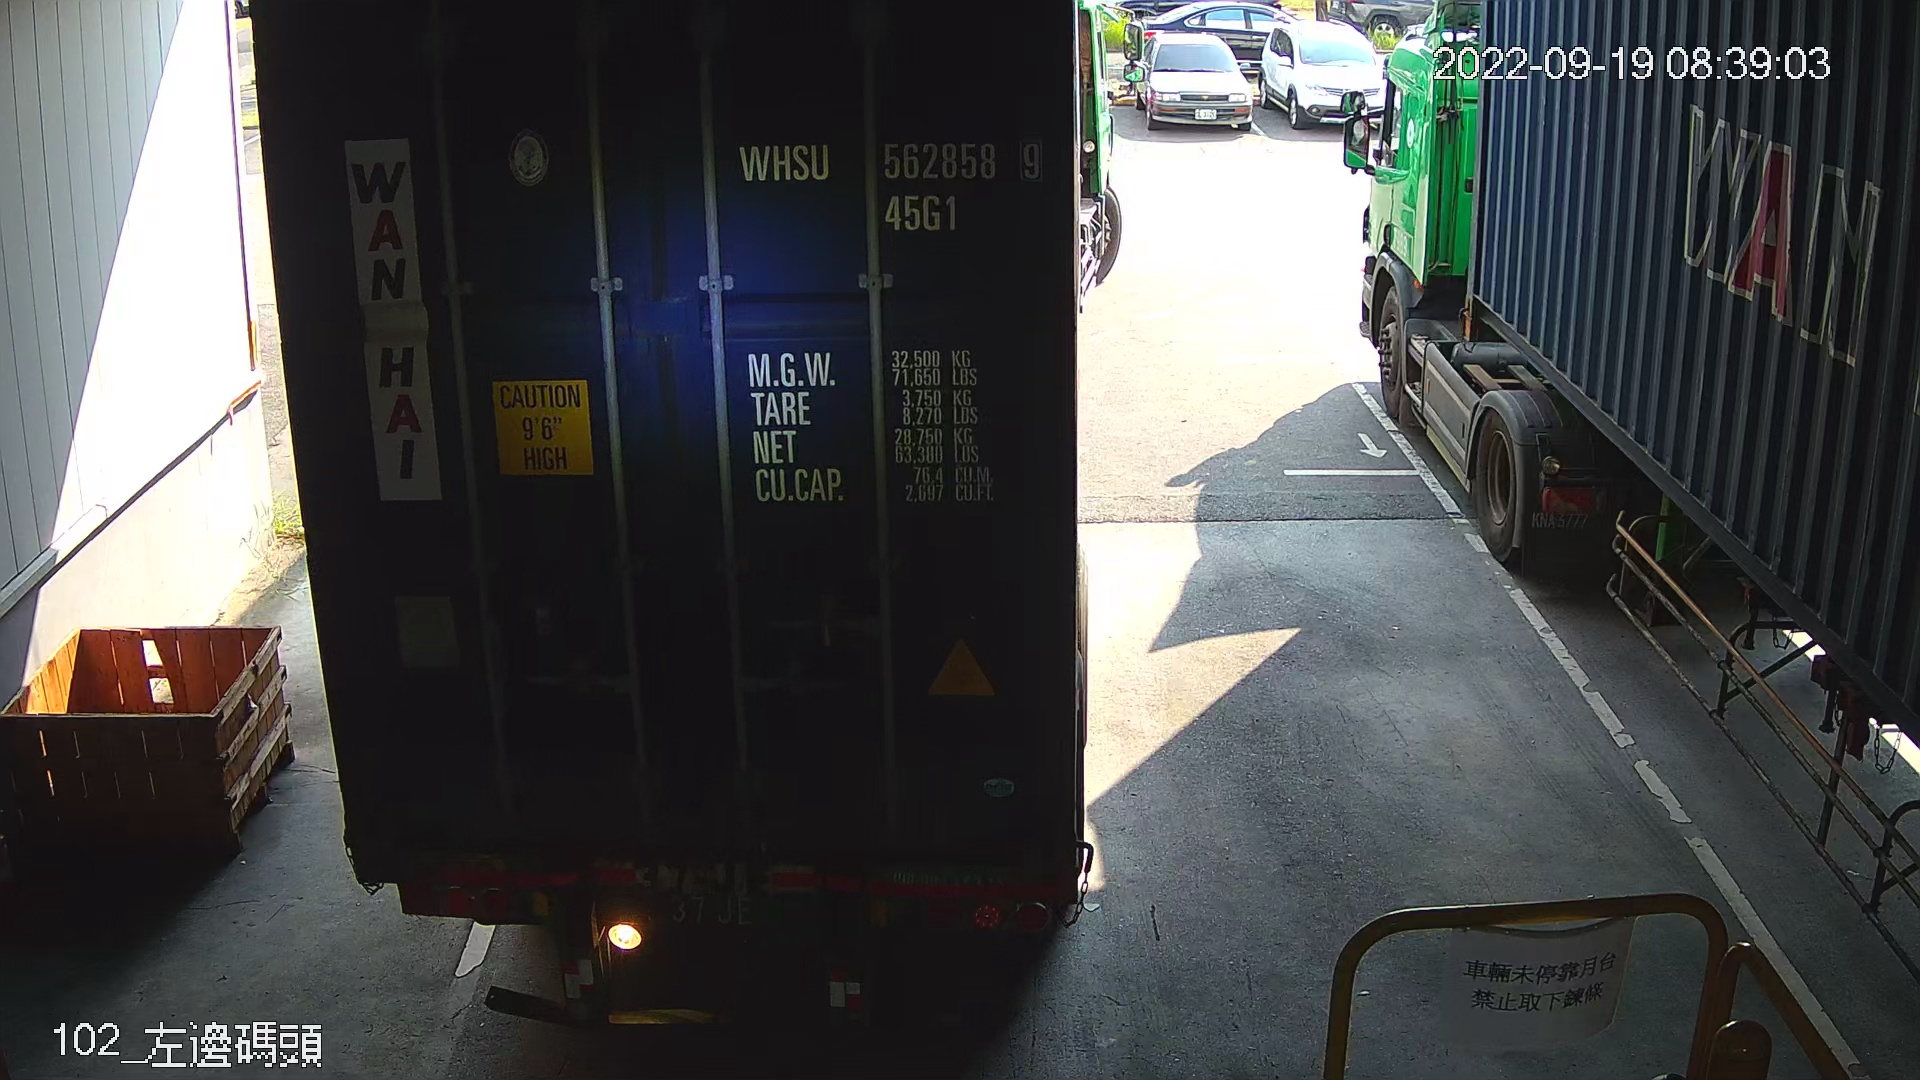container: (723, 127, 1054, 245)
